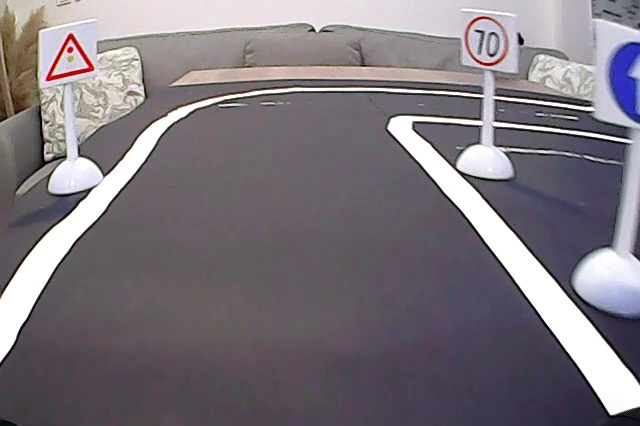red light: (39, 30, 101, 84)
speed limit 70: (464, 11, 516, 70)
